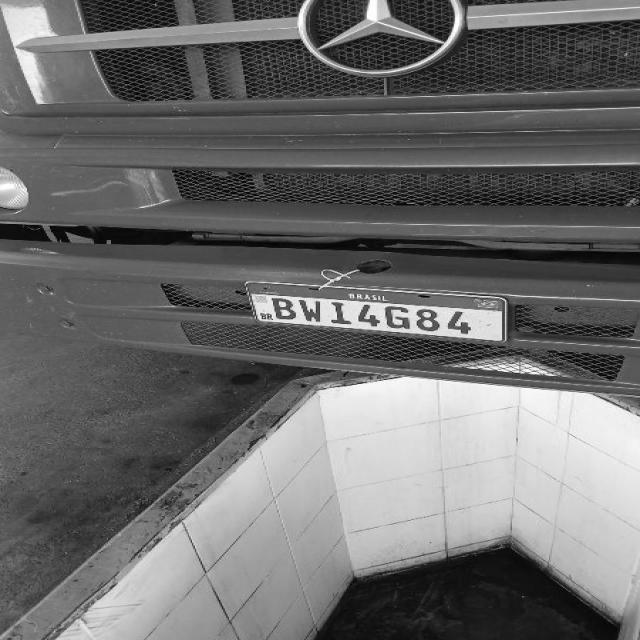placa_mercosul: (250, 283, 507, 342)
